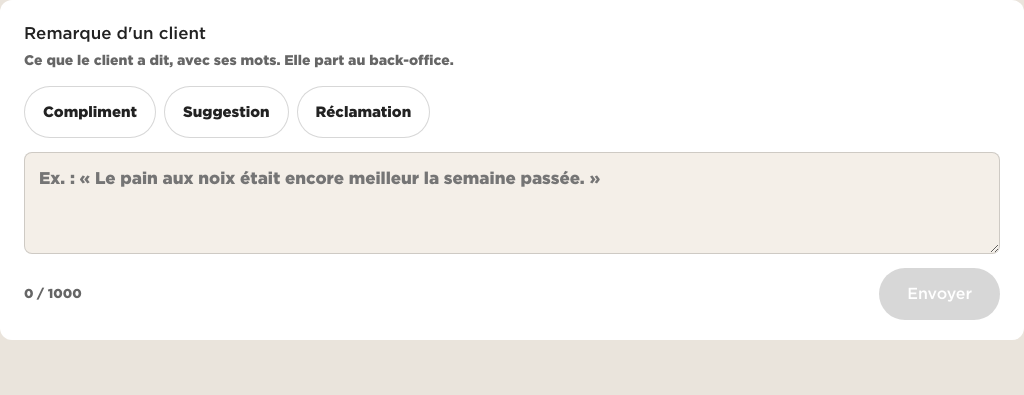
RemarkForm › refused by the BO (400): an error, the text stays to be corrected
Click the button "Suggestion": (226,112) [164, 86, 288, 138]
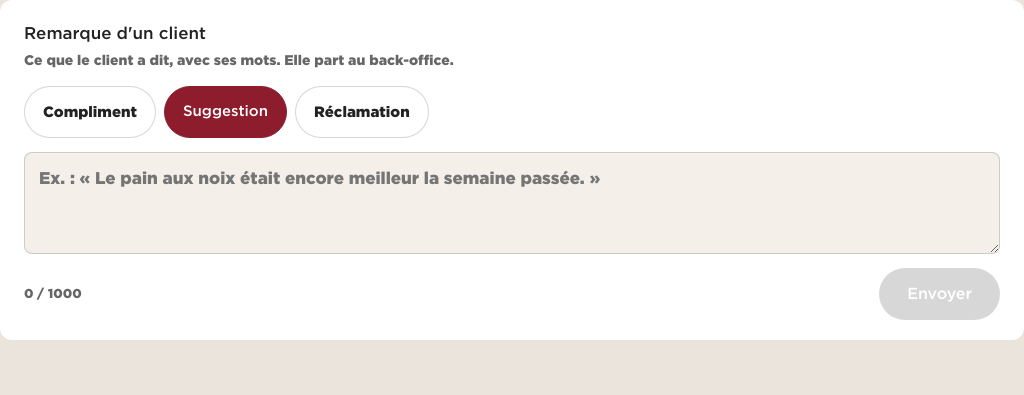
Replace the text in the text box with "Texte refusé": (512,203) [24, 152, 1000, 254]
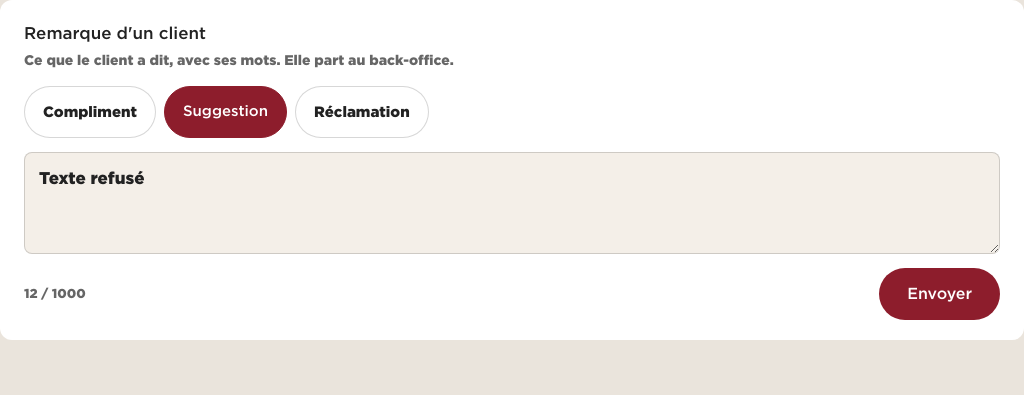
Click the button "Envoyer": (940,294) [879, 268, 1000, 320]
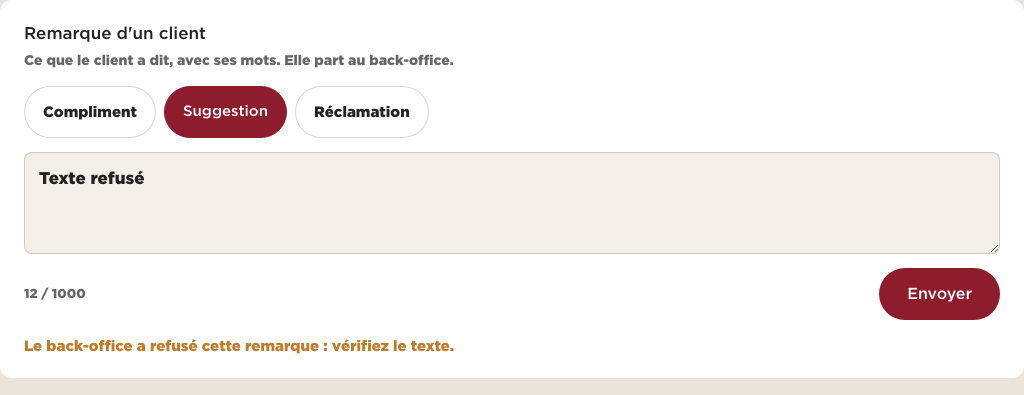
Result: the message reads "Le back-office a refusé cette remarque : vérifiez le texte." at [24, 337, 454, 354]
